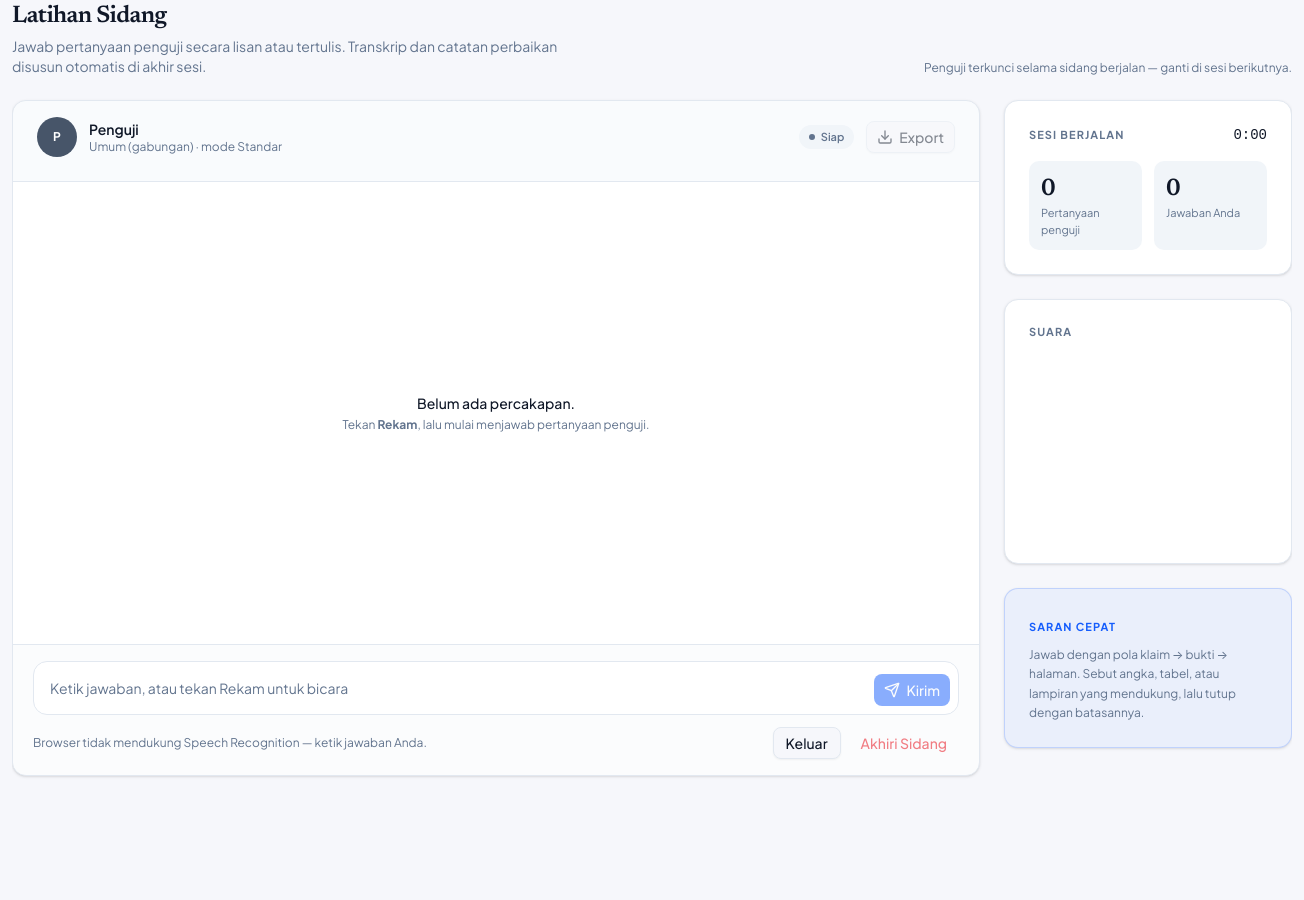
Test: SessionPage › sends a manual answer and renders the examiner reply
Type "Jawaban saya." into the text box with placeholder "Ketik jawaban, atau tekan Rekam untuk bicara".
click(454, 688); type("Jawaban saya.")  # box [42,670,866,706]
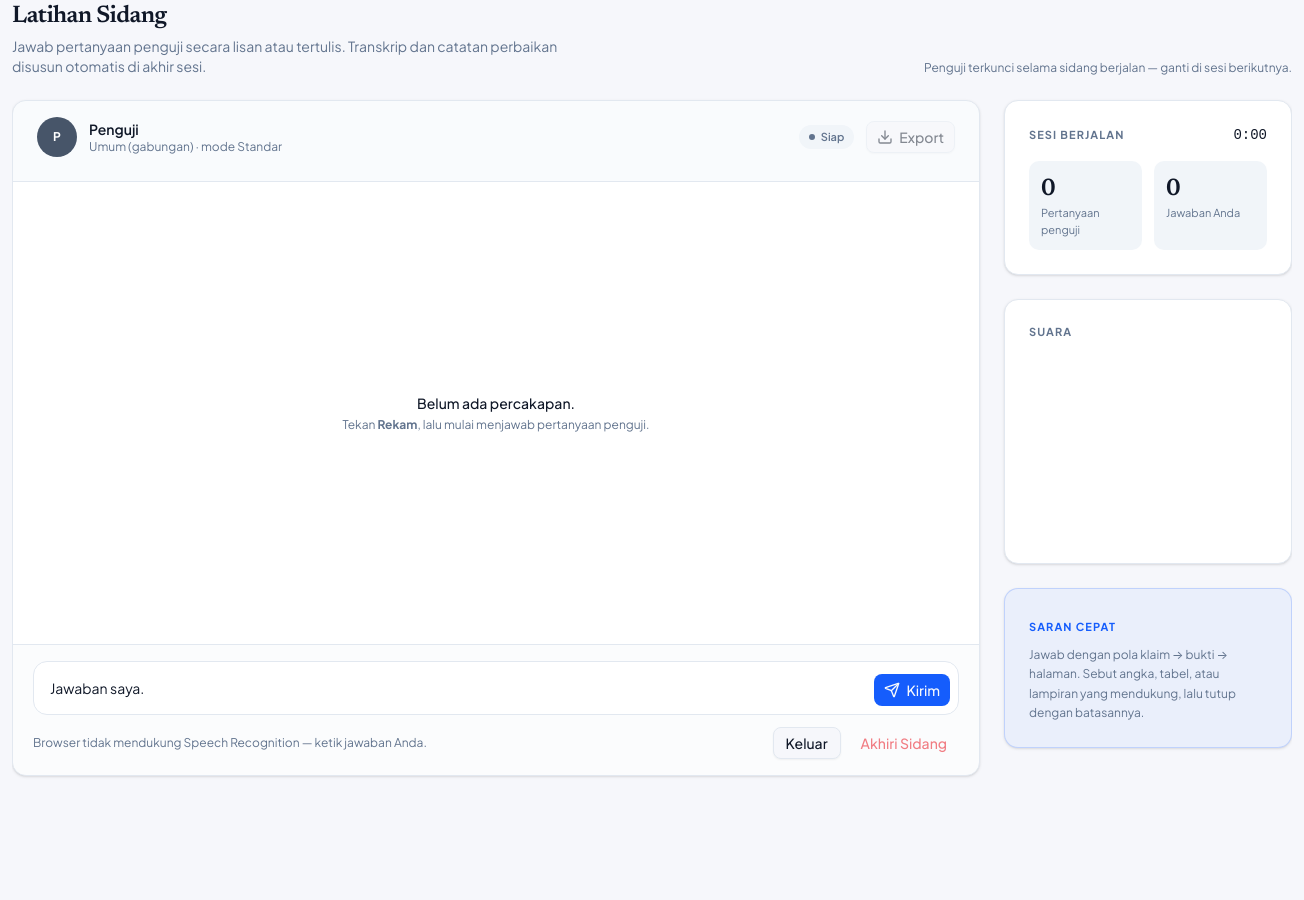
Click the button "Kirim".
click(912, 690)  # box [874,674,950,706]
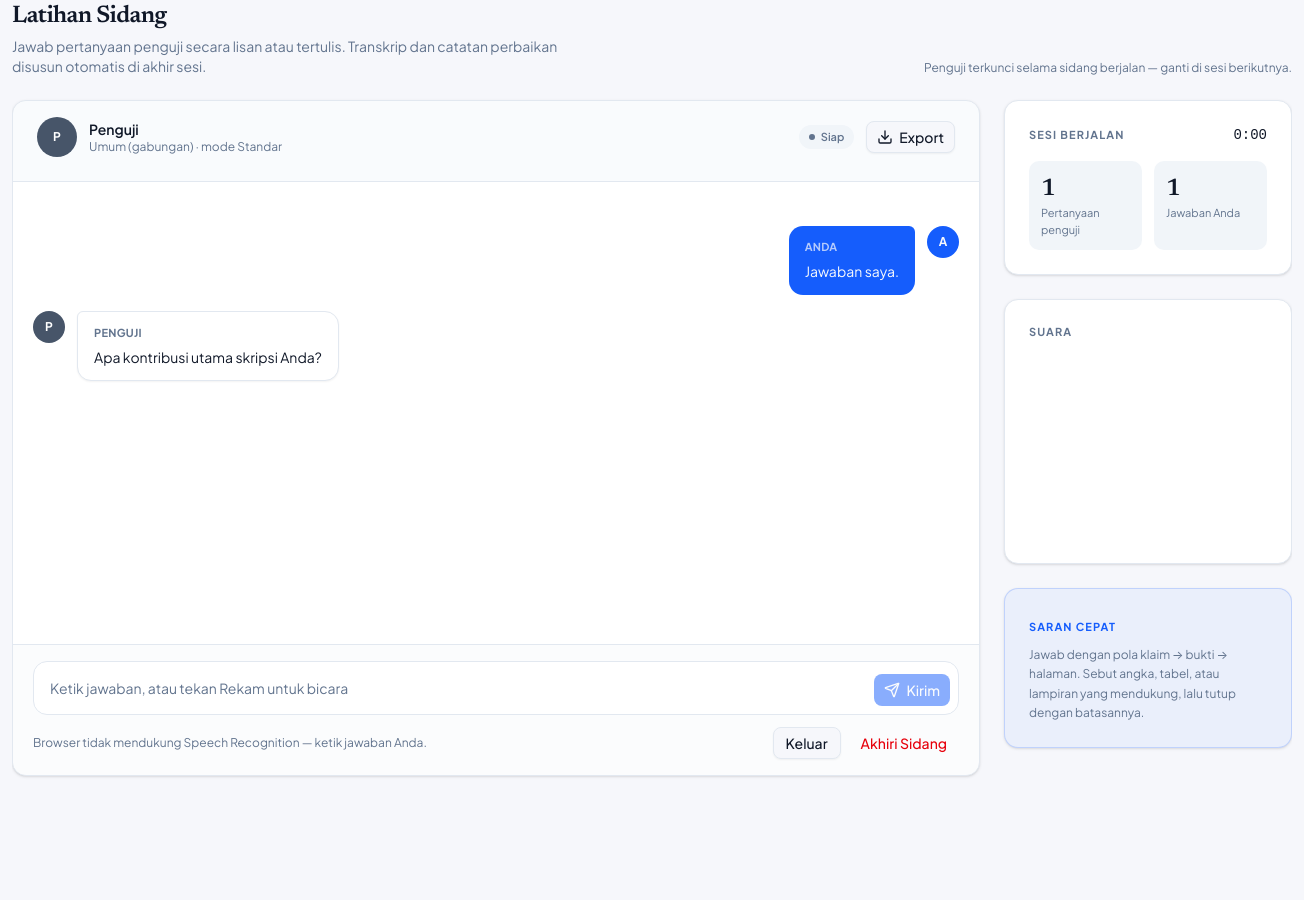
Now the text "Apa kontribusi utama skripsi Anda?" is shown, box [94,346,322,368]
